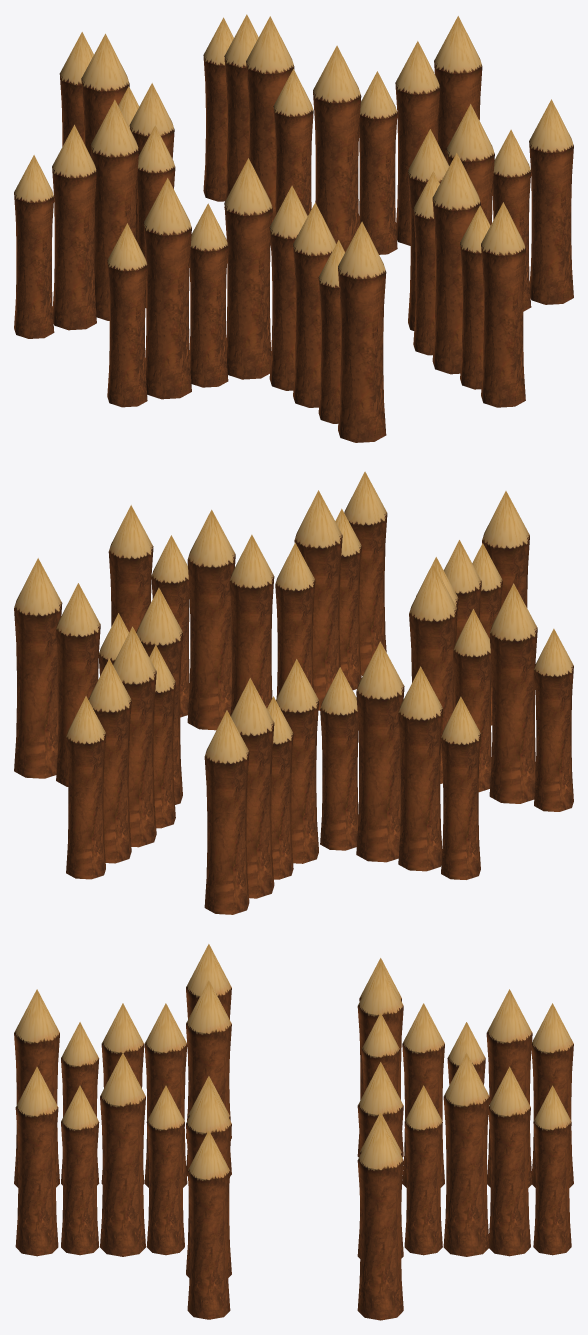
File: Fence_Cross.FBX
The picture shows the model from 3 angles, top to bottom: view 1: azimuth 30°, elevation 25°; view 2: azimuth 150°, elevation 25°; view 3: azimuth 270°, elevation 25°; orthographic projection. The views are drawn at different scales.
Parts seen in each view (by area): view 1: Fence_Cross; view 2: Fence_Cross; view 3: Fence_Cross.
Part boxes in pixels (left/top/right/bottom): Fence_Cross: left=14, top=14, right=573, bottom=442; Fence_Cross: left=14, top=471, right=573, bottom=914; Fence_Cross: left=14, top=944, right=573, bottom=1320.
Bounding box in the file's own units: 1148 × 501 × 1304.
